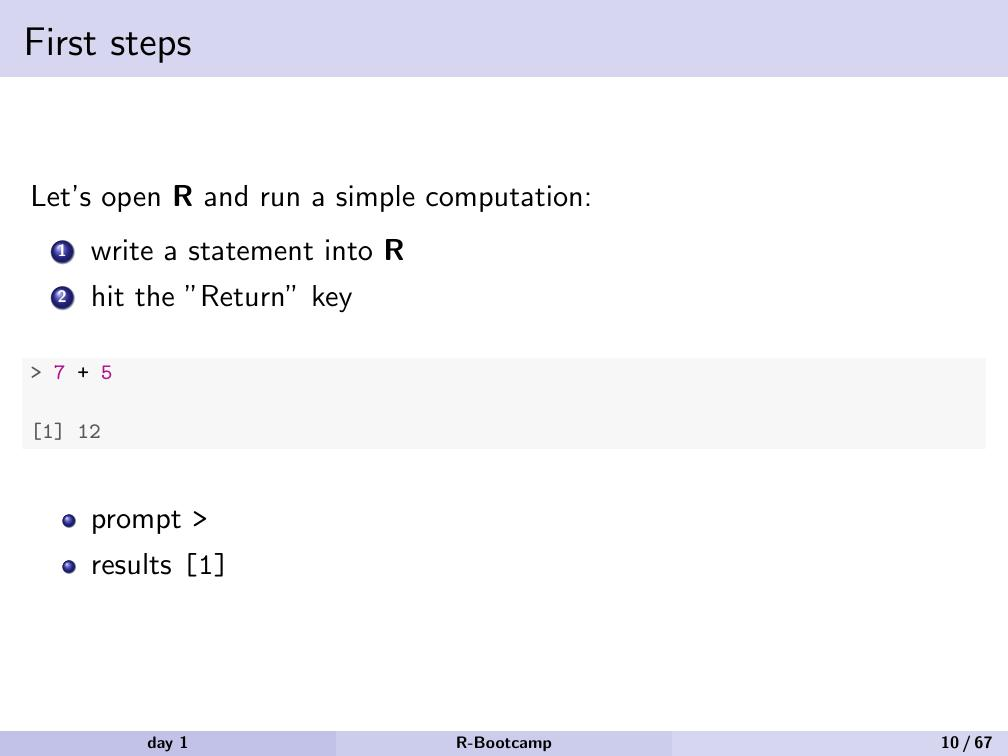Title: (16, 14, 193, 66)
